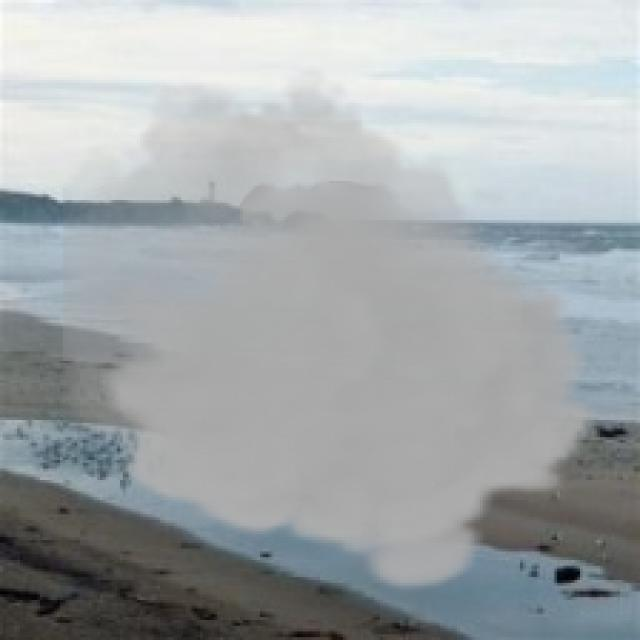smoke: (63, 66, 600, 594)
